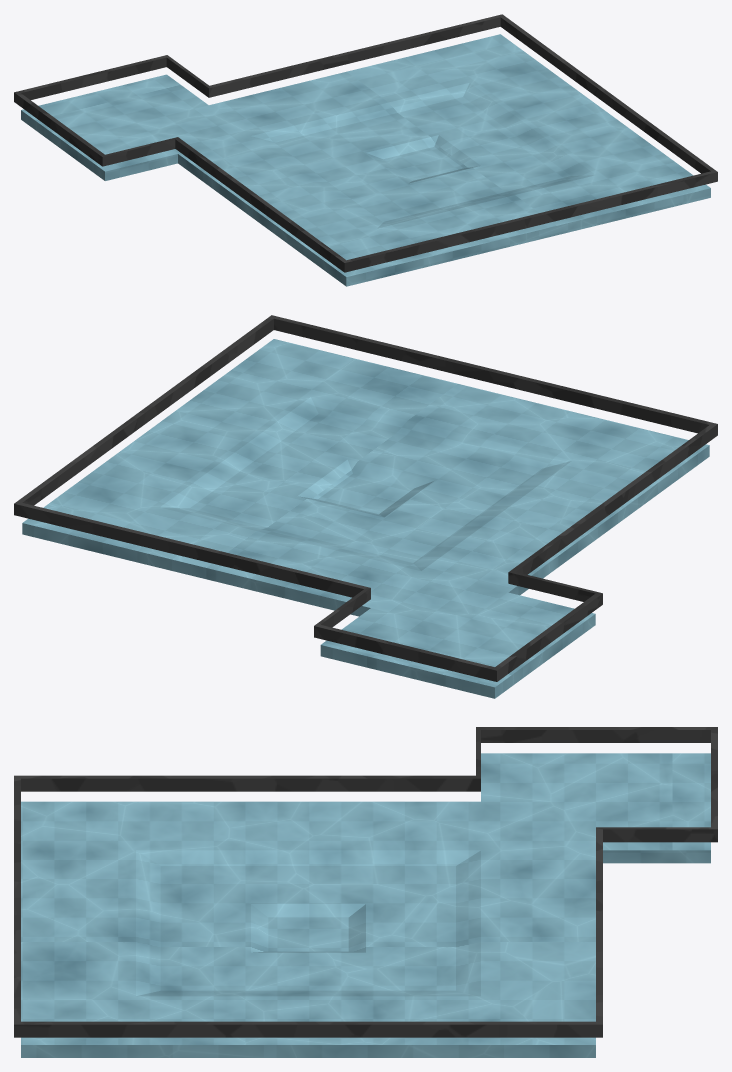
Rendered from track_bonus.glb.
3 renders of one model, top to bottom at view 1: azimuth 30°, elevation 25°; view 2: azimuth 150°, elevation 25°; view 3: azimuth 270°, elevation 25°, orthographic. The views are drawn at different scales.
Visible parts, largest first — view 1: Platform, Railing; view 2: Platform, Railing; view 3: Platform, Railing.
Part boxes in pixels (<box>): Platform: <box>21,34,710,286</box>; Railing: <box>14,14,717,272</box>; Platform: <box>22,339,709,698</box>; Railing: <box>14,315,717,681</box>; Platform: <box>21,753,710,1057</box>; Railing: <box>14,727,717,1037</box>.
Size of the model in its own units: 24.48 by 1.39 by 24.48.
2 materials, 2 textured.
